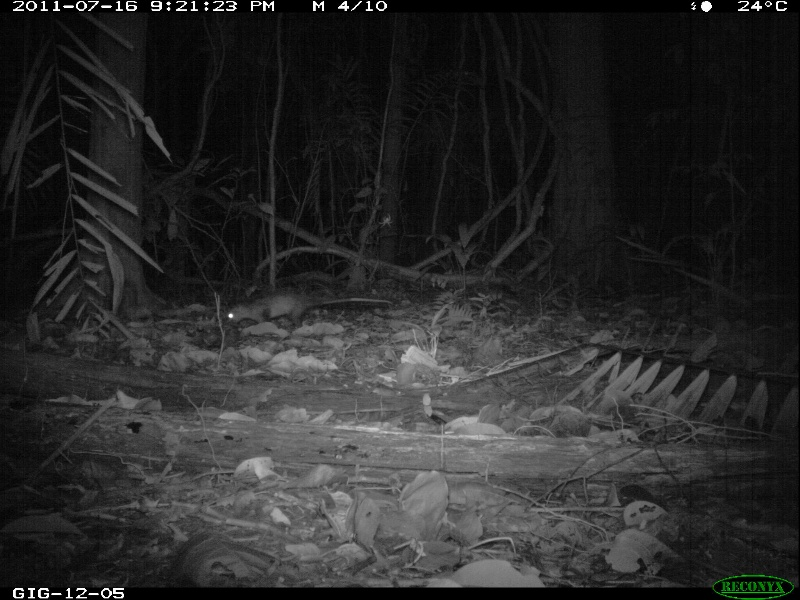opossum: (224, 289, 392, 327)
